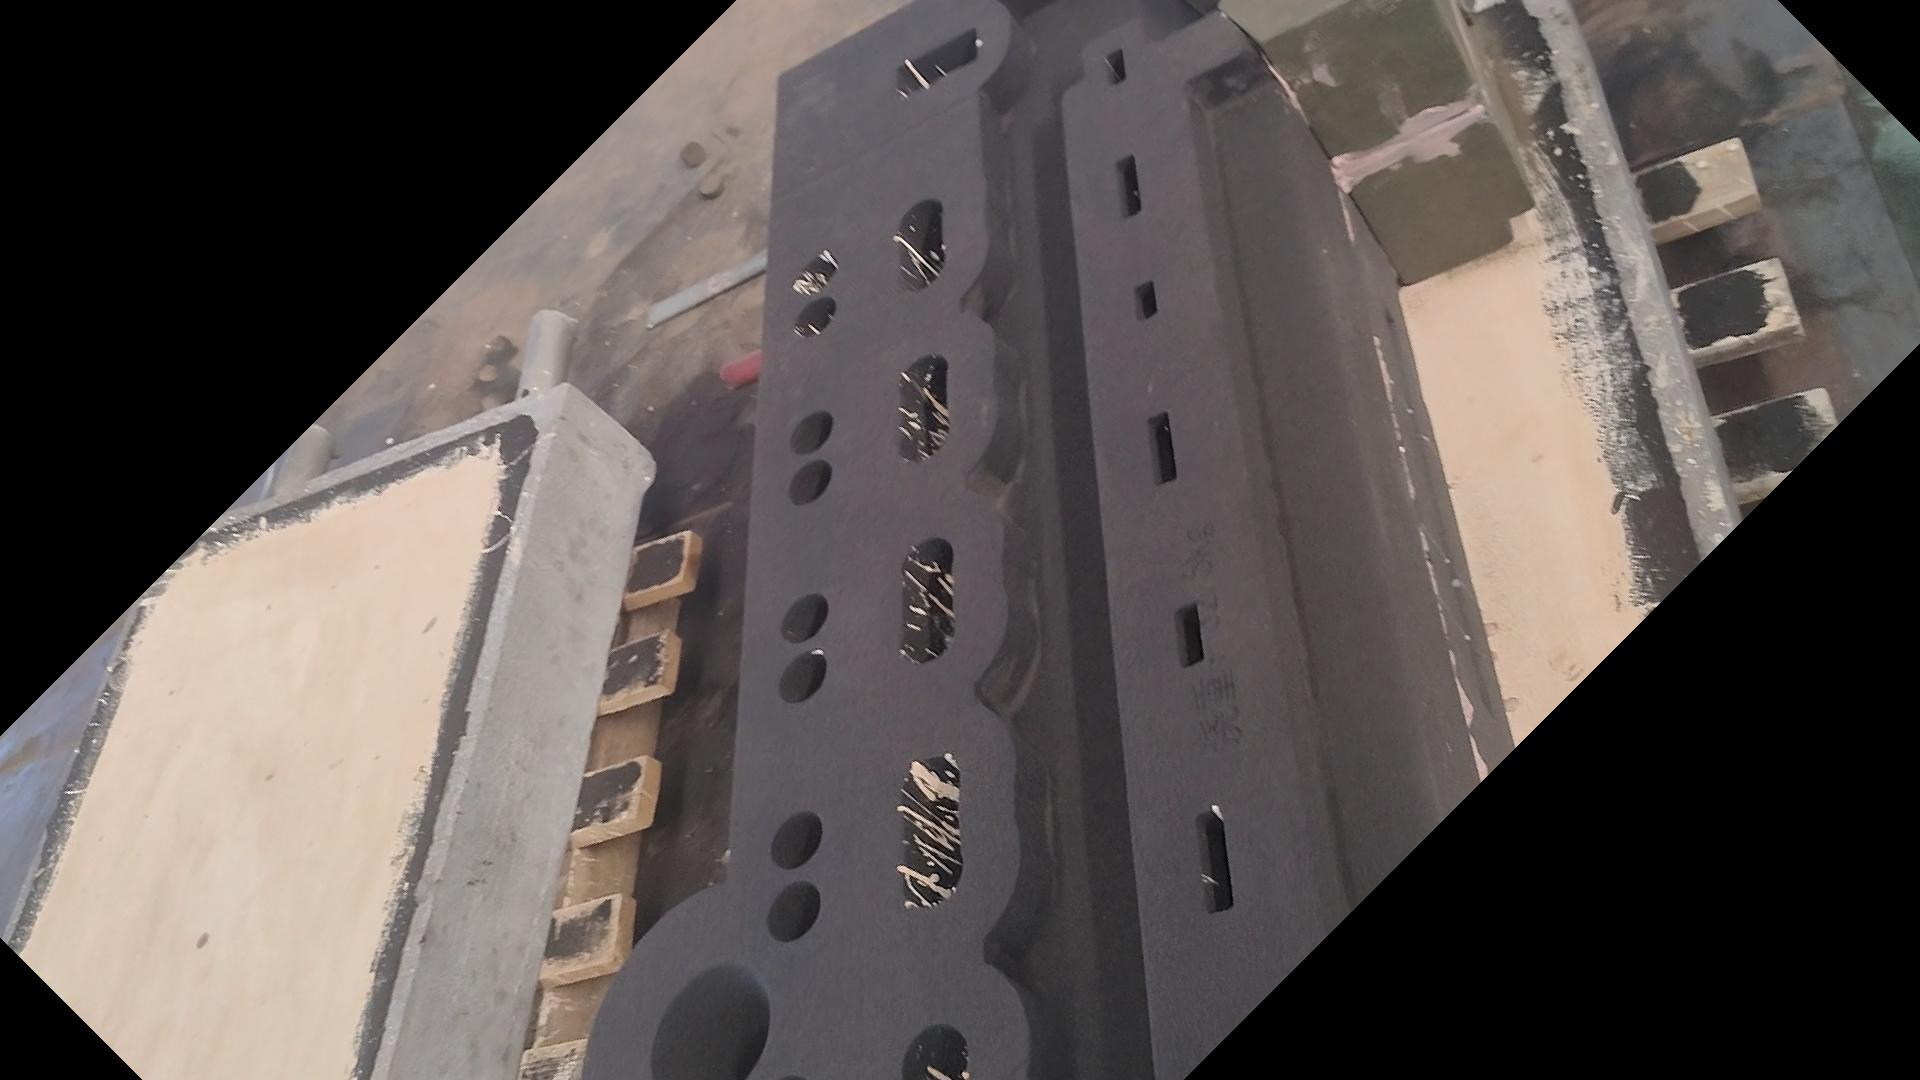pouring hole: (650, 961, 771, 1080)
